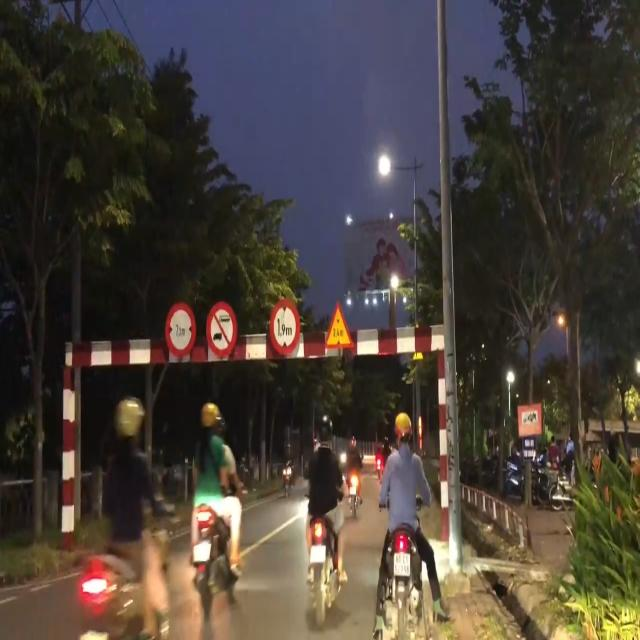Bien bao cam xe oto khach va xe oto tai: (204, 300, 238, 363)
Bien bao chieu cao tinh khong thuc te: (323, 299, 355, 353)
Bien bao han che chieu cao: (268, 292, 307, 364)
